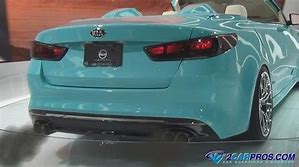smoke: (85, 132, 208, 167), (1, 119, 47, 167)
